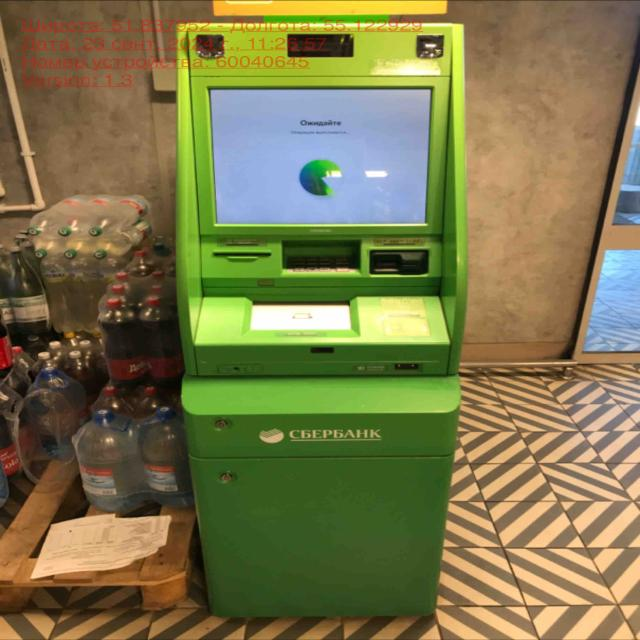bank: (169, 15, 462, 627)
